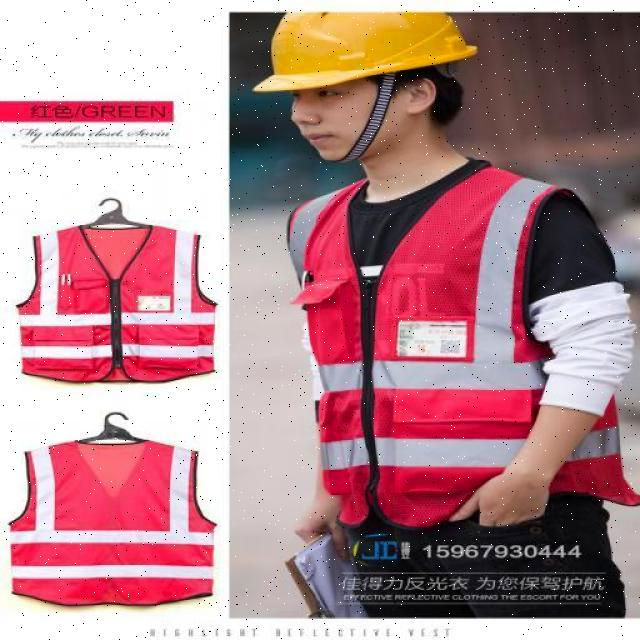Hard_hat: (262, 5, 482, 98)
Person: (285, 17, 640, 605)
Vest: (317, 176, 527, 510), (7, 443, 212, 604), (15, 229, 212, 383)
